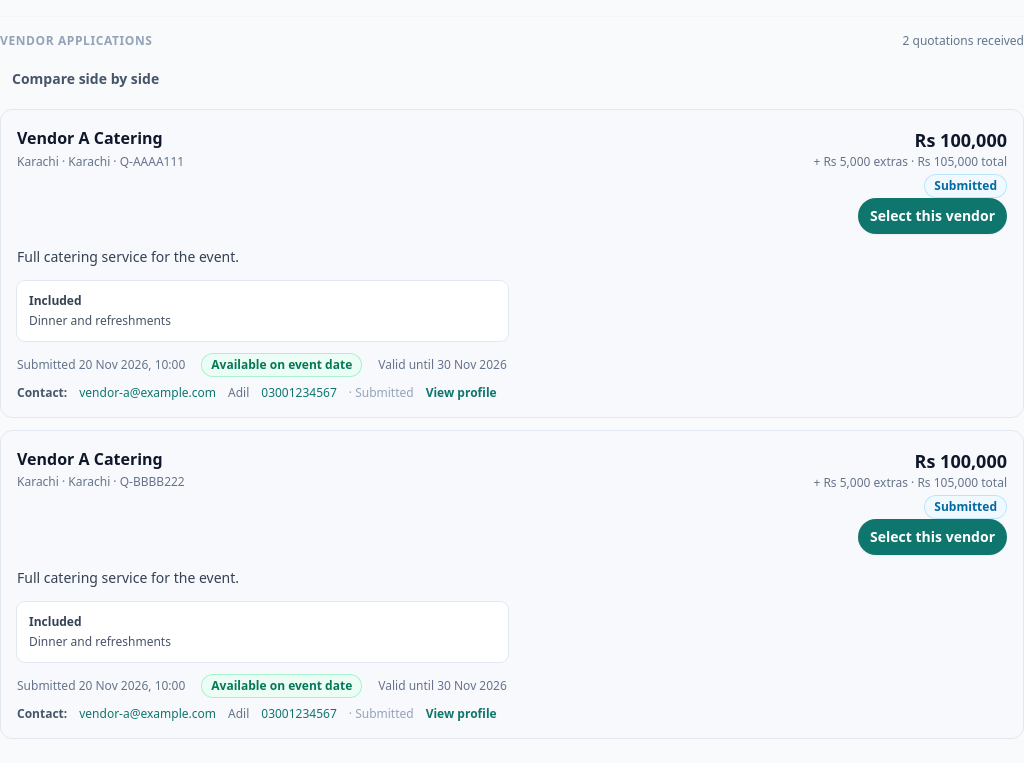
Test: RequestApplications › calls the select endpoint and reports success
Click the 1st button "Select this vendor" at [933, 216], box [858,198,1007,234]
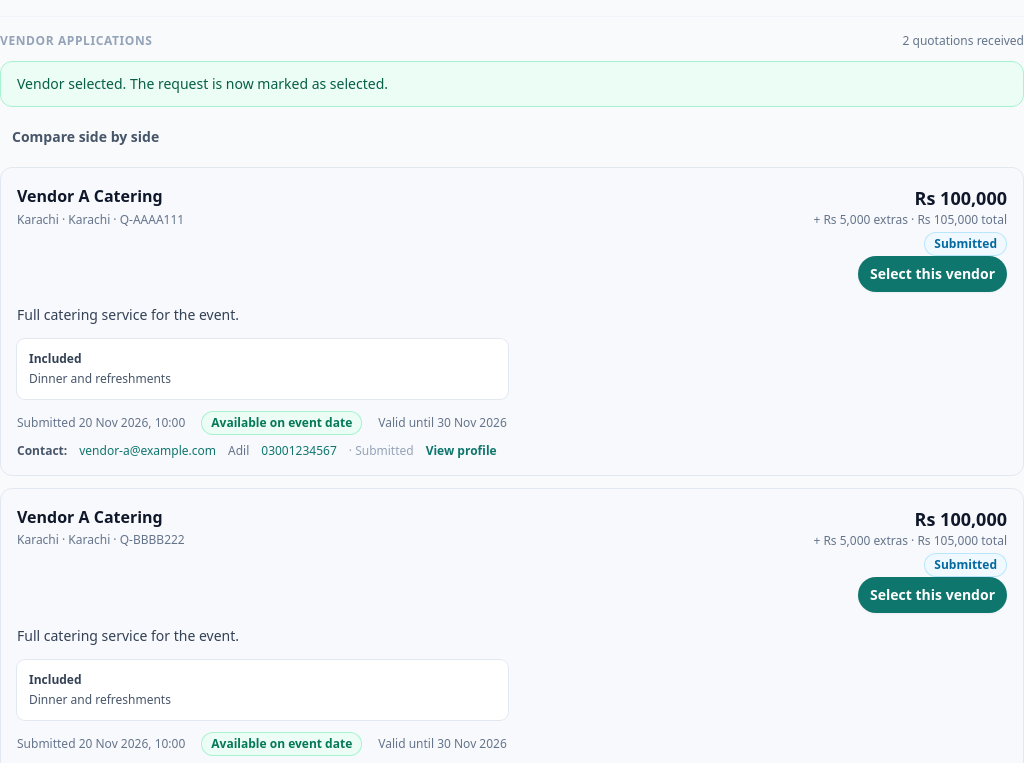
Expected: the text "Vendor selected. The request is now marked as selected." is shown, [0,61,1023,107]
